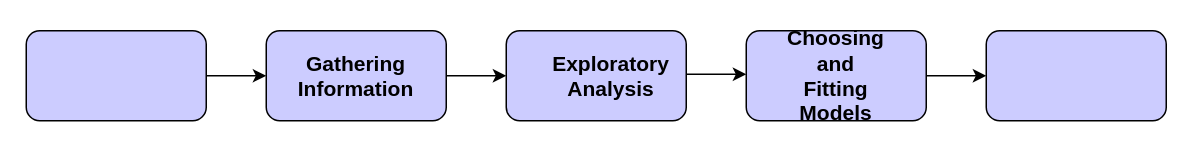
Image size: 1193x152. Some labels were removed from this diagram. Here are the shapes that lost their labels. From the top down, the centre of each, then its label:
At (x=115, y=75): "Problem Definition".
At (x=1075, y=75): "Forecasting".
